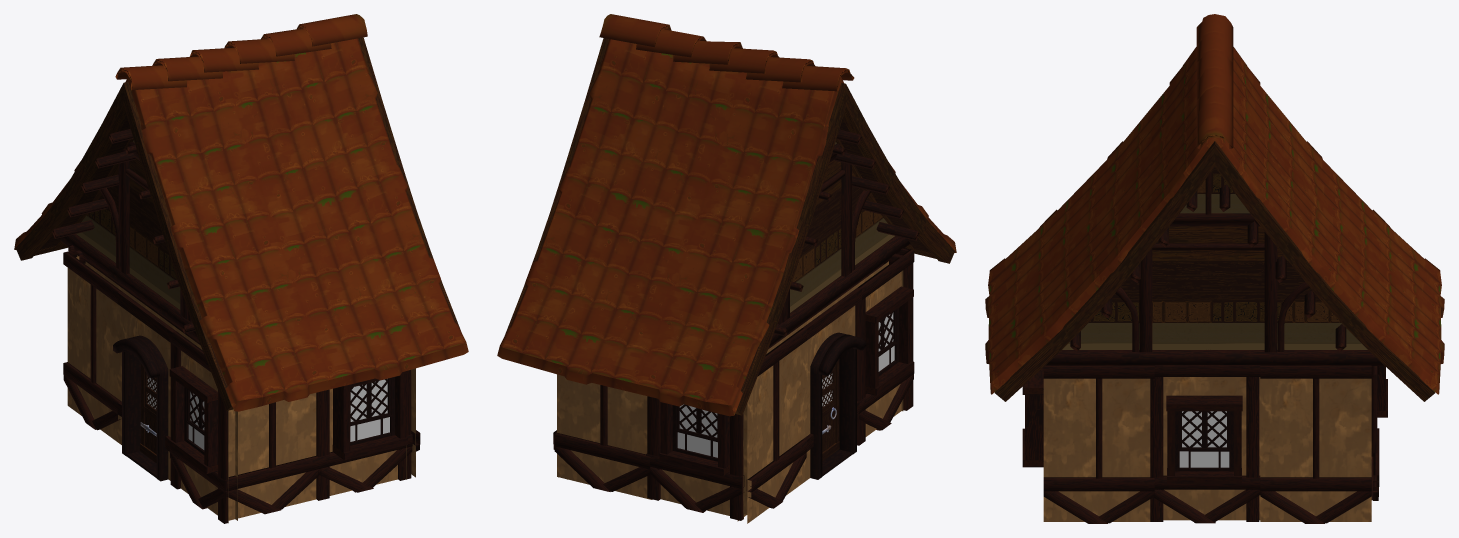
The model's file is Casa_grande4.obj.
The picture shows the model from 3 angles, left to right: view 1: azimuth 30°, elevation 25°; view 2: azimuth 150°, elevation 25°; view 3: azimuth 270°, elevation 25°; orthographic projection.
Parts seen in each view (by area): view 1: StaticMeshActor_162, StaticMeshActor_160, StaticMeshActor_152, StaticMeshActor_150, StaticMeshActor_158, StaticMeshActor_148, StaticMeshActor_149, StaticMeshActor_164, StaticMeshActor_157, StaticMeshActor_156, StaticMeshActor_163, StaticMeshActor_154; view 2: StaticMeshActor_162, StaticMeshActor_160, StaticMeshActor_151, StaticMeshActor_150, StaticMeshActor_147, StaticMeshActor_148, StaticMeshActor_164, StaticMeshActor_165, StaticMeshActor_157, StaticMeshActor_156, StaticMeshActor_163; view 3: StaticMeshActor_162, StaticMeshActor_161, StaticMeshActor_155, StaticMeshActor_154, StaticMeshActor_153, StaticMeshActor_159, StaticMeshActor_158, StaticMeshActor_151, StaticMeshActor_165.
Part boxes in pixels (left/top/right/bottom): StaticMeshActor_162: left=14, top=14, right=468, bottom=411; StaticMeshActor_160: left=52, top=129, right=199, bottom=342; StaticMeshActor_152: left=226, top=393, right=321, bottom=520; StaticMeshActor_150: left=63, top=251, right=136, bottom=444; StaticMeshActor_158: left=332, top=370, right=408, bottom=460; StaticMeshActor_148: left=169, top=331, right=237, bottom=523; StaticMeshActor_149: left=316, top=370, right=412, bottom=500; StaticMeshActor_164: left=113, top=335, right=168, bottom=481; StaticMeshActor_157: left=169, top=366, right=217, bottom=474; StaticMeshActor_156: left=117, top=291, right=188, bottom=480; StaticMeshActor_163: left=140, top=363, right=156, bottom=462; StaticMeshActor_154: left=406, top=368, right=420, bottom=479; StaticMeshActor_162: left=497, top=14, right=956, bottom=416; StaticMeshActor_160: left=769, top=129, right=919, bottom=346; StaticMeshActor_151: left=554, top=374, right=652, bottom=499; StaticMeshActor_150: left=737, top=328, right=806, bottom=523; StaticMeshActor_147: left=646, top=396, right=747, bottom=520; StaticMeshActor_148: left=840, top=249, right=914, bottom=445; StaticMeshActor_164: left=810, top=332, right=866, bottom=479; StaticMeshActor_165: left=659, top=402, right=729, bottom=476; StaticMeshActor_157: left=865, top=286, right=913, bottom=395; StaticMeshActor_156: left=787, top=287, right=861, bottom=483; StaticMeshActor_163: left=822, top=359, right=839, bottom=461; StaticMeshActor_162: left=985, top=14, right=1444, bottom=401; StaticMeshActor_161: left=1046, top=167, right=1384, bottom=365; StaticMeshActor_155: left=1260, top=365, right=1371, bottom=523; StaticMeshActor_154: left=1043, top=365, right=1154, bottom=523; StaticMeshActor_153: left=1150, top=365, right=1260, bottom=523; StaticMeshActor_159: left=1166, top=395, right=1242, bottom=483; StaticMeshActor_158: left=1022, top=367, right=1043, bottom=467; StaticMeshActor_151: left=1371, top=366, right=1379, bottom=500; StaticMeshActor_165: left=1377, top=366, right=1387, bottom=417.
Bounding box in the file's own units: 519 × 807 × 826.
